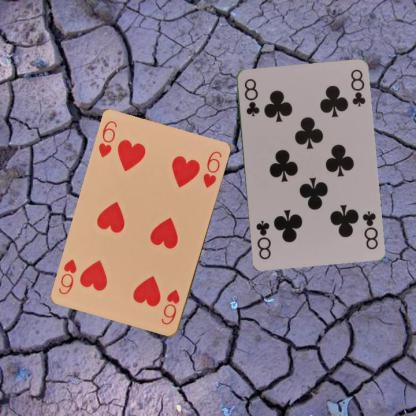6h: (158, 287, 182, 327), (96, 118, 118, 160)
8c: (359, 208, 379, 251), (242, 76, 260, 117)
